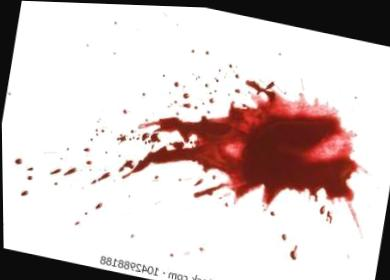Fire: (112, 78, 362, 234), (47, 114, 114, 187), (325, 208, 332, 221), (290, 243, 296, 257), (19, 190, 27, 195), (319, 203, 324, 211), (14, 158, 20, 163), (25, 167, 32, 171), (282, 232, 286, 238), (26, 175, 31, 179), (270, 209, 274, 214)
